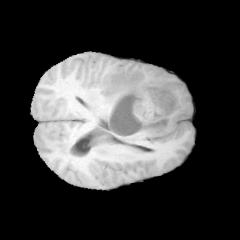glioma: (99, 64, 183, 141)
